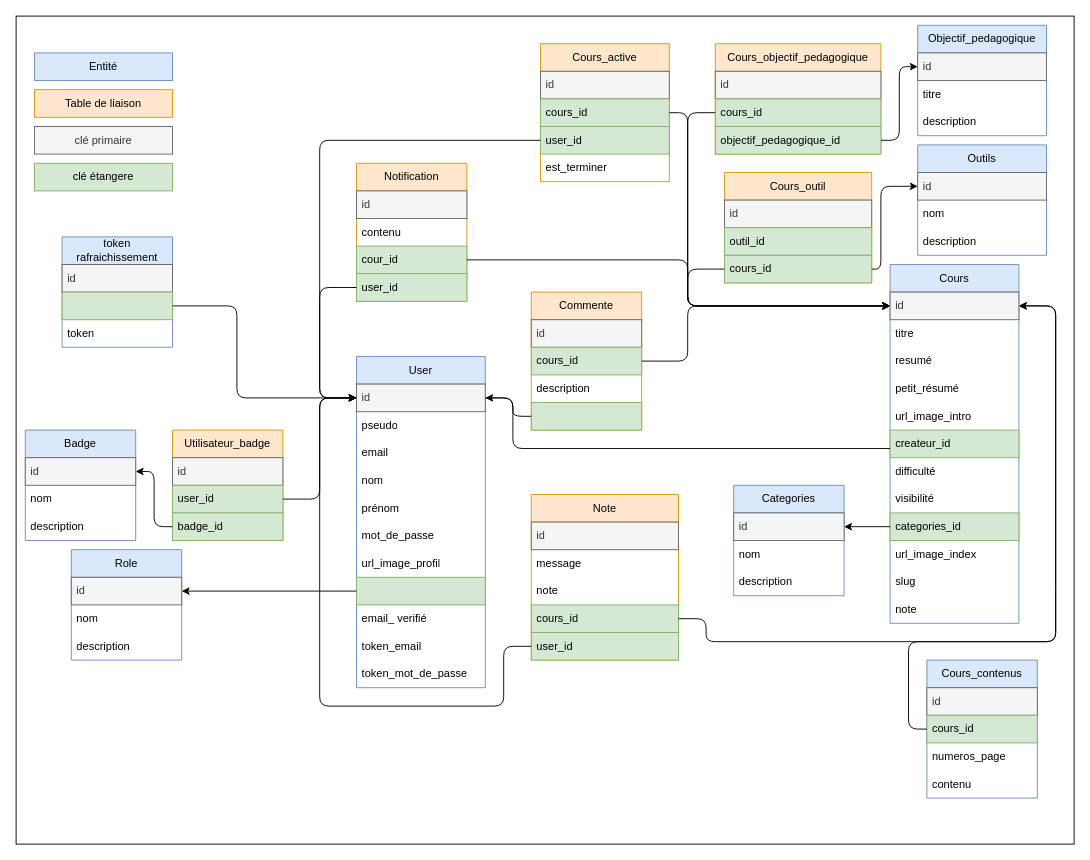
This 1090x860 diagram has some shape labels left out. Here are the shapes that lost their labels. From the top down, the centre of each, then its label:
At point 116,305: "utilisateur_id".
At point 586,416: "auteur_id".
At point 420,590: "role_id".
